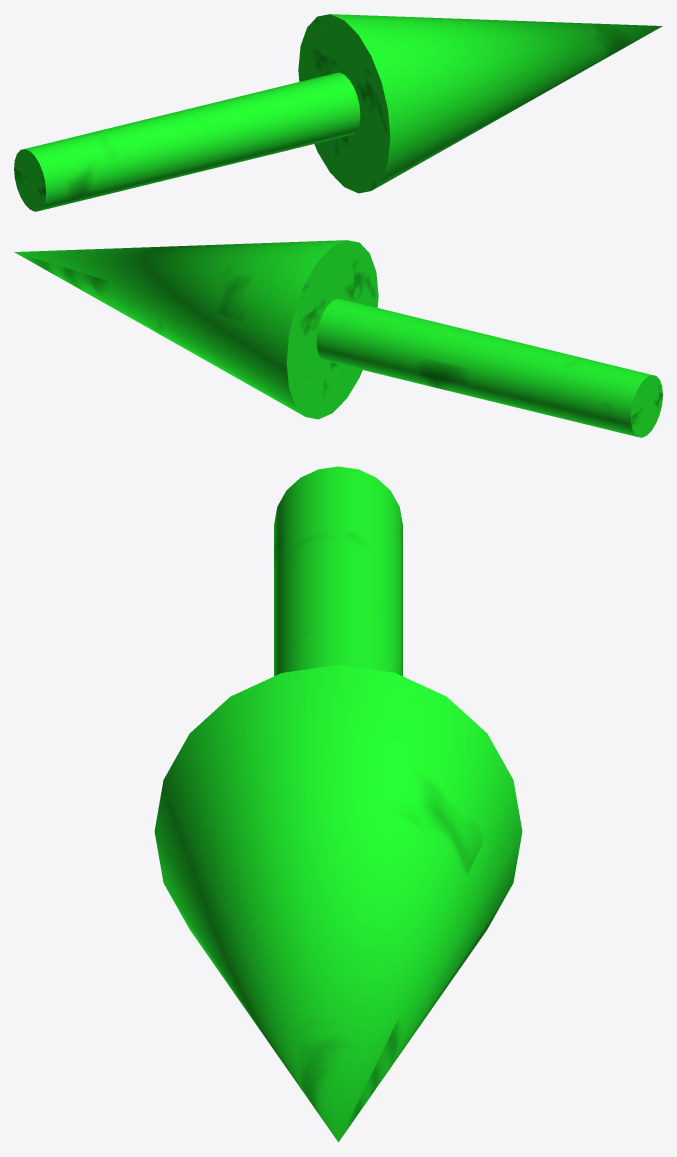
Rendered from ArrowHead.obj.
3 views of the same model, one above another, from view 1: azimuth 30°, elevation 25°; view 2: azimuth 150°, elevation 25°; view 3: azimuth 270°, elevation 25° (orthographic). The views are drawn at different scales.
Visible parts, largest first — view 1: ArrowHead:polySurface1; view 2: ArrowHead:polySurface1; view 3: ArrowHead:polySurface1.
Part boxes in pixels (bbox=[...]): ArrowHead:polySurface1: bbox=[14, 14, 662, 211]; ArrowHead:polySurface1: bbox=[14, 240, 662, 437]; ArrowHead:polySurface1: bbox=[154, 466, 522, 1142].
Size of the model in its own units: 1.99 by 0.5 by 0.5.
Materials: 1 (1 with a texture image).
